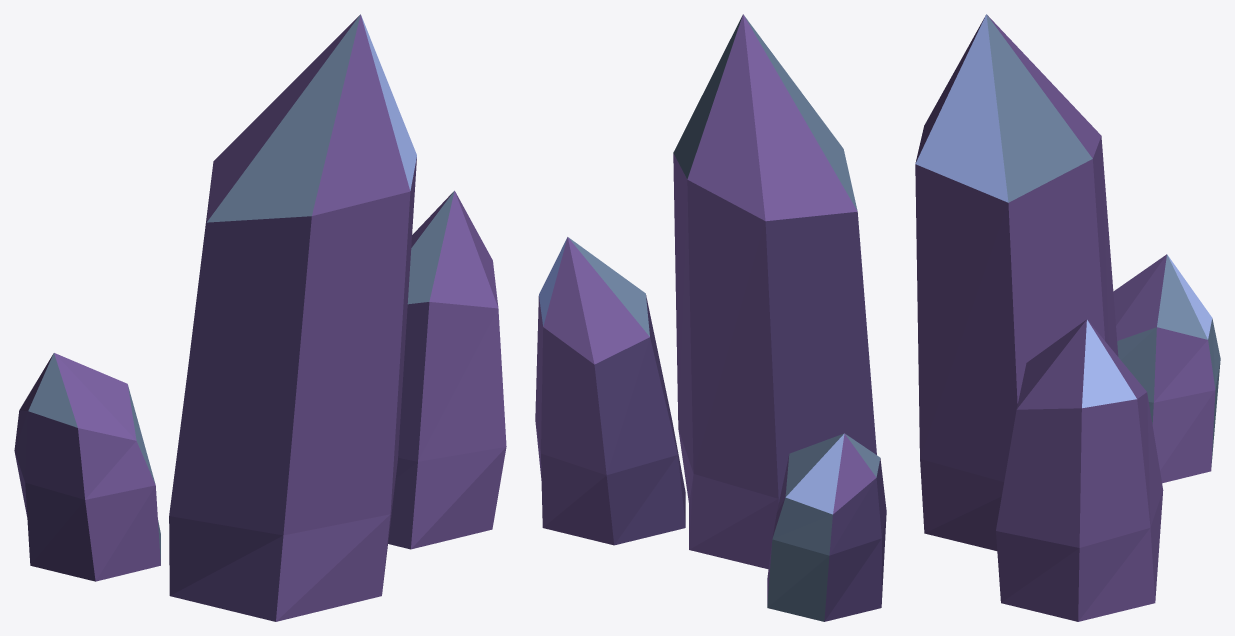
File: Crystal_Blockout_A_Detail_v1.glb
3 views of the same model, side by side, from view 1: azimuth 30°, elevation 25°; view 2: azimuth 150°, elevation 25°; view 3: azimuth 270°, elevation 25° (orthographic). The views are drawn at different scales.
Parts seen in each view (by area): view 1: Crystal_Blockout_A_Detail_v1.001; view 2: Crystal_Blockout_A_Detail_v1.001; view 3: Crystal_Blockout_A_Detail_v1.001.
Part boxes in pixels (x1,y1,x2,y2): Crystal_Blockout_A_Detail_v1.001: [14, 14, 506, 621]; Crystal_Blockout_A_Detail_v1.001: [535, 14, 886, 621]; Crystal_Blockout_A_Detail_v1.001: [915, 14, 1220, 621].
Size of the model in its own units: 2.66 by 3.25 by 1.71.
